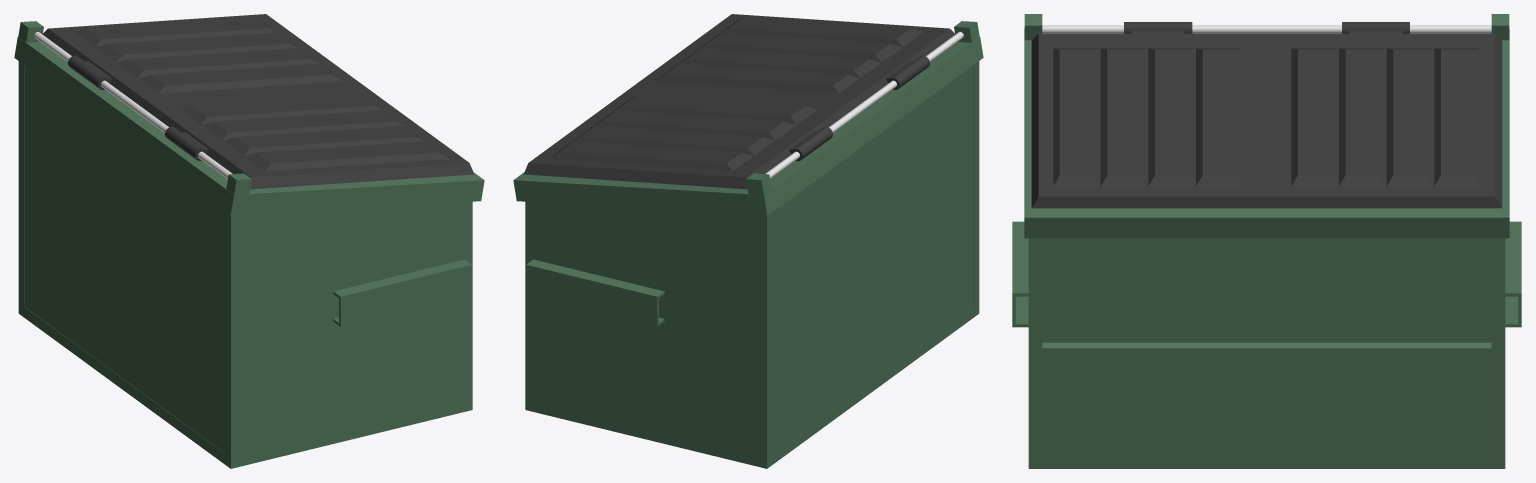
The model's file is trashOutput.fbx.
The picture shows the model from 3 angles, left to right: view 1: azimuth 30°, elevation 25°; view 2: azimuth 150°, elevation 25°; view 3: azimuth 270°, elevation 25°; orthographic projection. The views are drawn at different scales.
Parts seen in each view (by area): view 1: Cube.007, Cylinder.002, Cylinder; view 2: Cube.007, Cylinder.002, Cylinder; view 3: Cube.007, Cylinder.002, Cylinder.
Part boxes in pixels (box(x1,y1,x2,y2)): Cube.007: box(14, 21, 484, 468); Cylinder.002: box(43, 14, 474, 189); Cylinder: box(34, 32, 232, 178); Cube.007: box(513, 21, 983, 468); Cylinder.002: box(523, 14, 954, 189); Cylinder: box(765, 32, 963, 178); Cube.007: box(1012, 14, 1521, 468); Cylinder.002: box(1031, 22, 1502, 208); Cylinder: box(1042, 25, 1491, 33).
Size of the model in its own units: 484 by 526 by 748.
